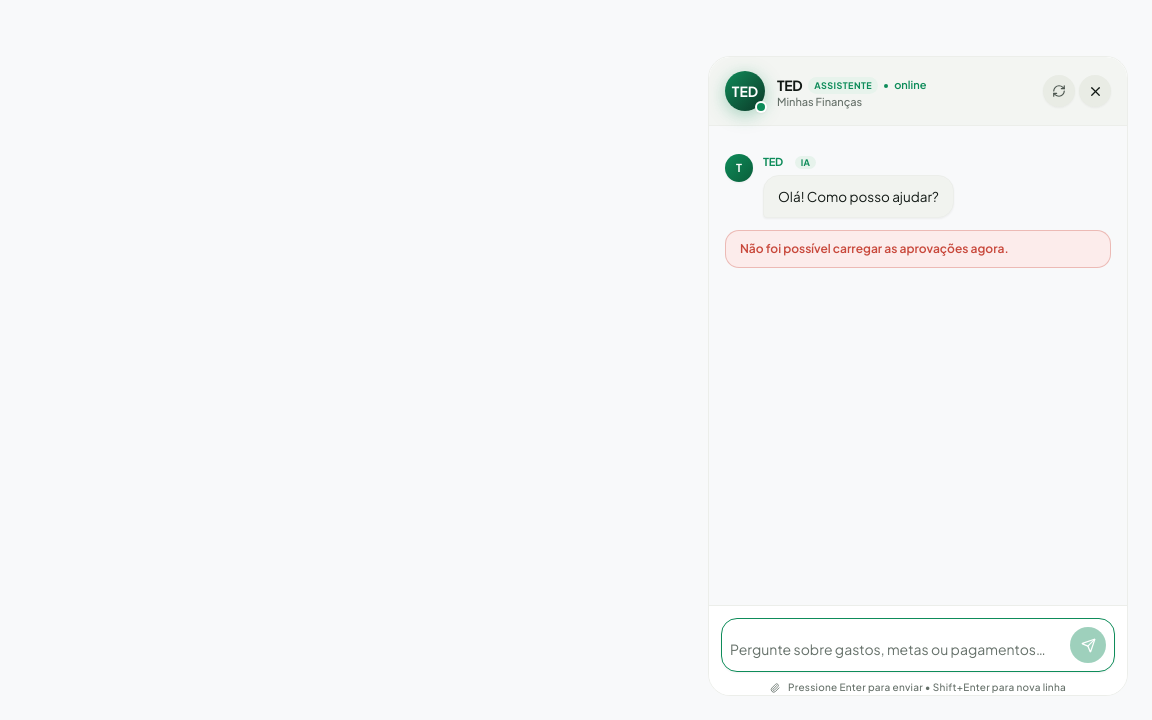
Test: TedChat — §19.3 retry preserves the draft › retry resends the exact content with the SAME stable messageId — no retyping
Expected: the text "Olá! Como posso ajudar?" is shown, [778, 186, 939, 207]
Type "Gastei R$ 50 no mercado" into the text box with placeholder "Pergunte sobre gastos, metas ou pagamentos…" at (897, 649), box [730, 635, 1064, 663]
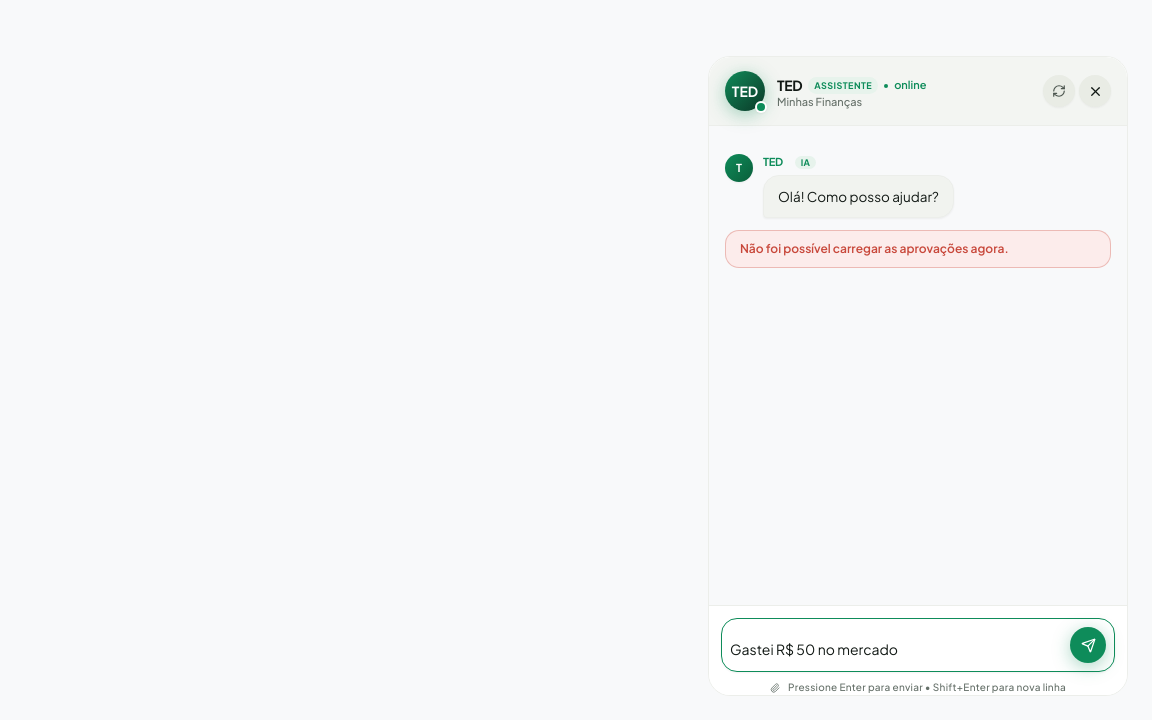
Click the button named "enviar mensagem" at (1088, 645), box [1070, 627, 1106, 663]
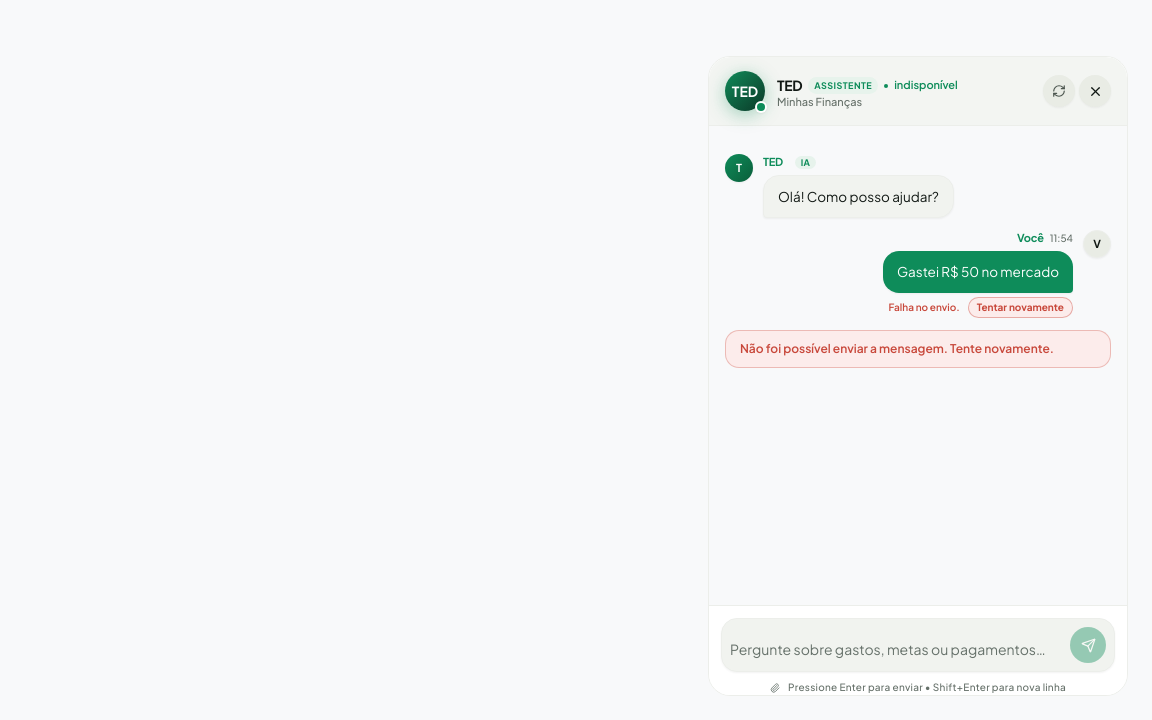
Expected: the button "Tentar novamente" is shown
Click the button "Tentar novamente" at (1020, 307), box [968, 297, 1073, 318]
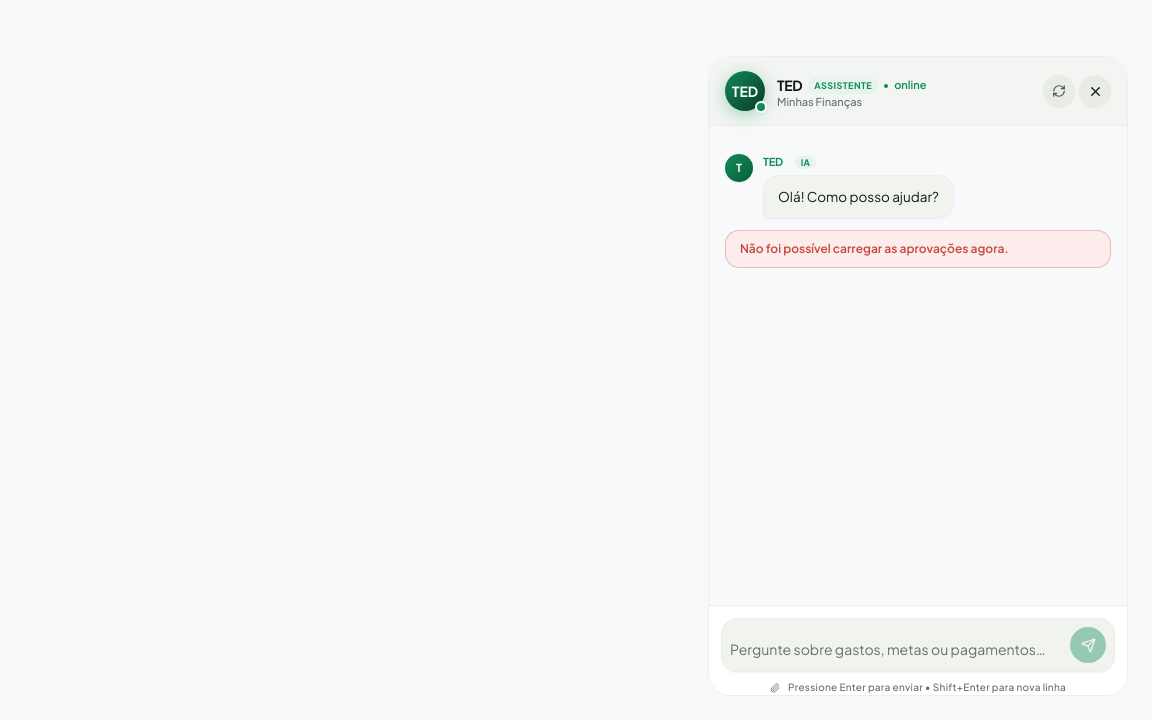
Expected: the button "Tentar novamente" is gone
Expected: the text "Falha no envio" is gone
